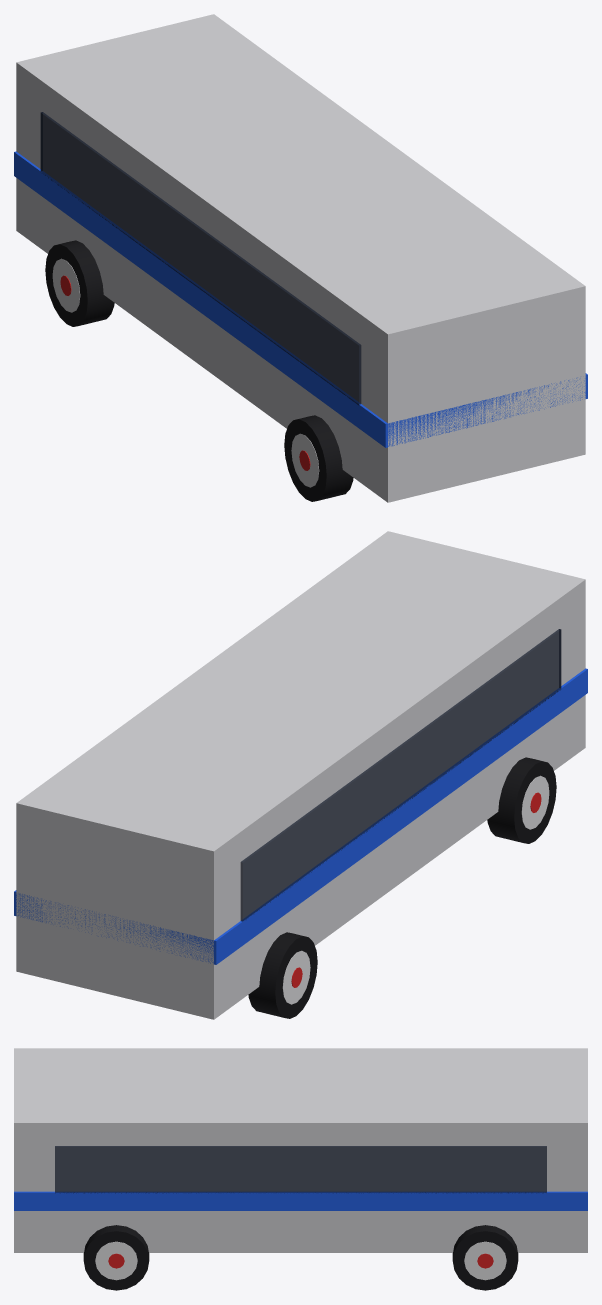
The model's file is metro.glb.
3 renders of one model, top to bottom at view 1: azimuth 30°, elevation 25°; view 2: azimuth 150°, elevation 25°; view 3: azimuth 270°, elevation 25°, orthographic. The views are drawn at different scales.
Bounding box in the file's own units: 0.3597 × 0.3107 × 1.
